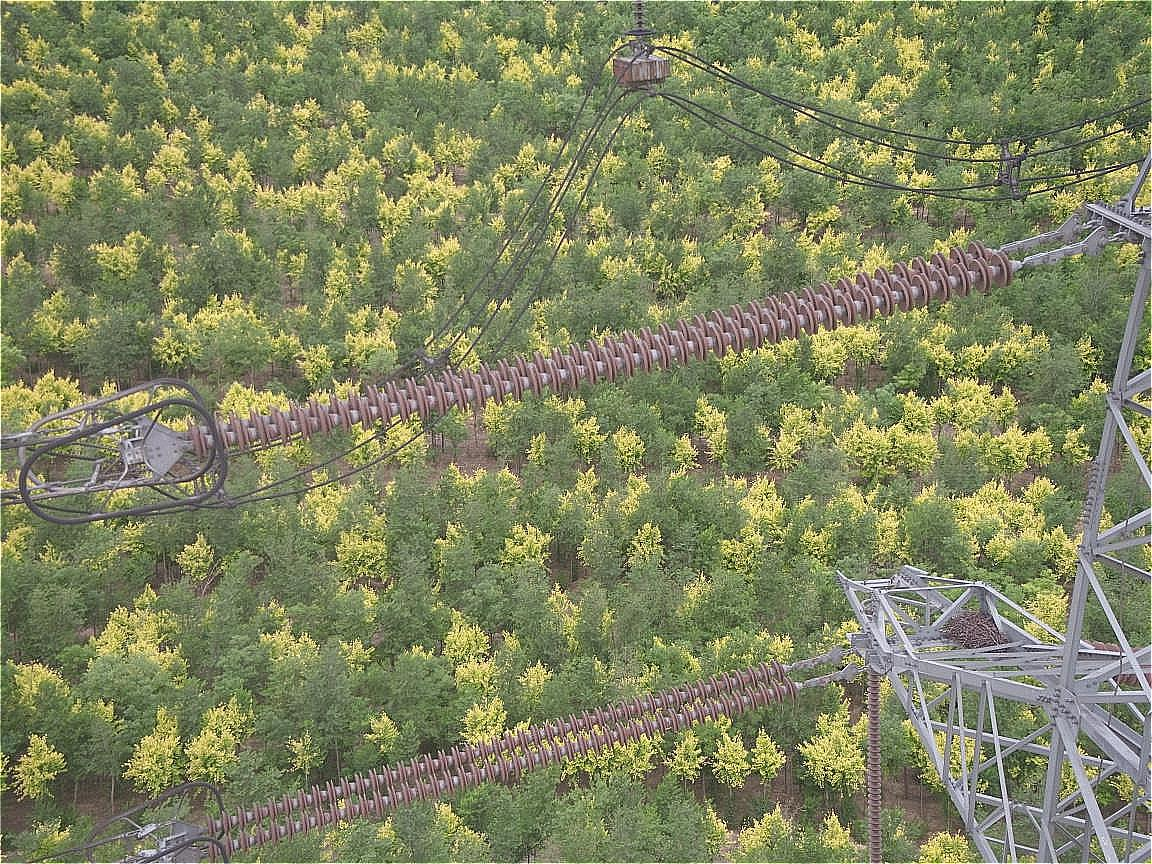insultor2: (171, 225, 1044, 479), (178, 653, 802, 864)
